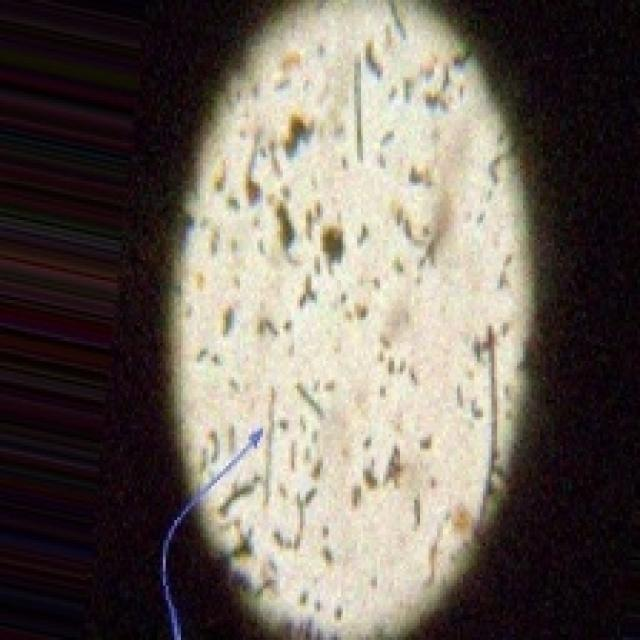Rod_bacteria: (149, 0, 540, 637)
